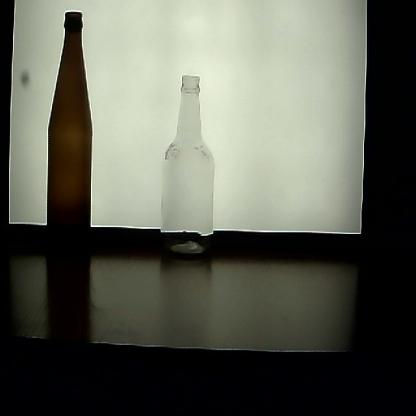Can: (43, 8, 94, 265), (159, 72, 220, 264)
